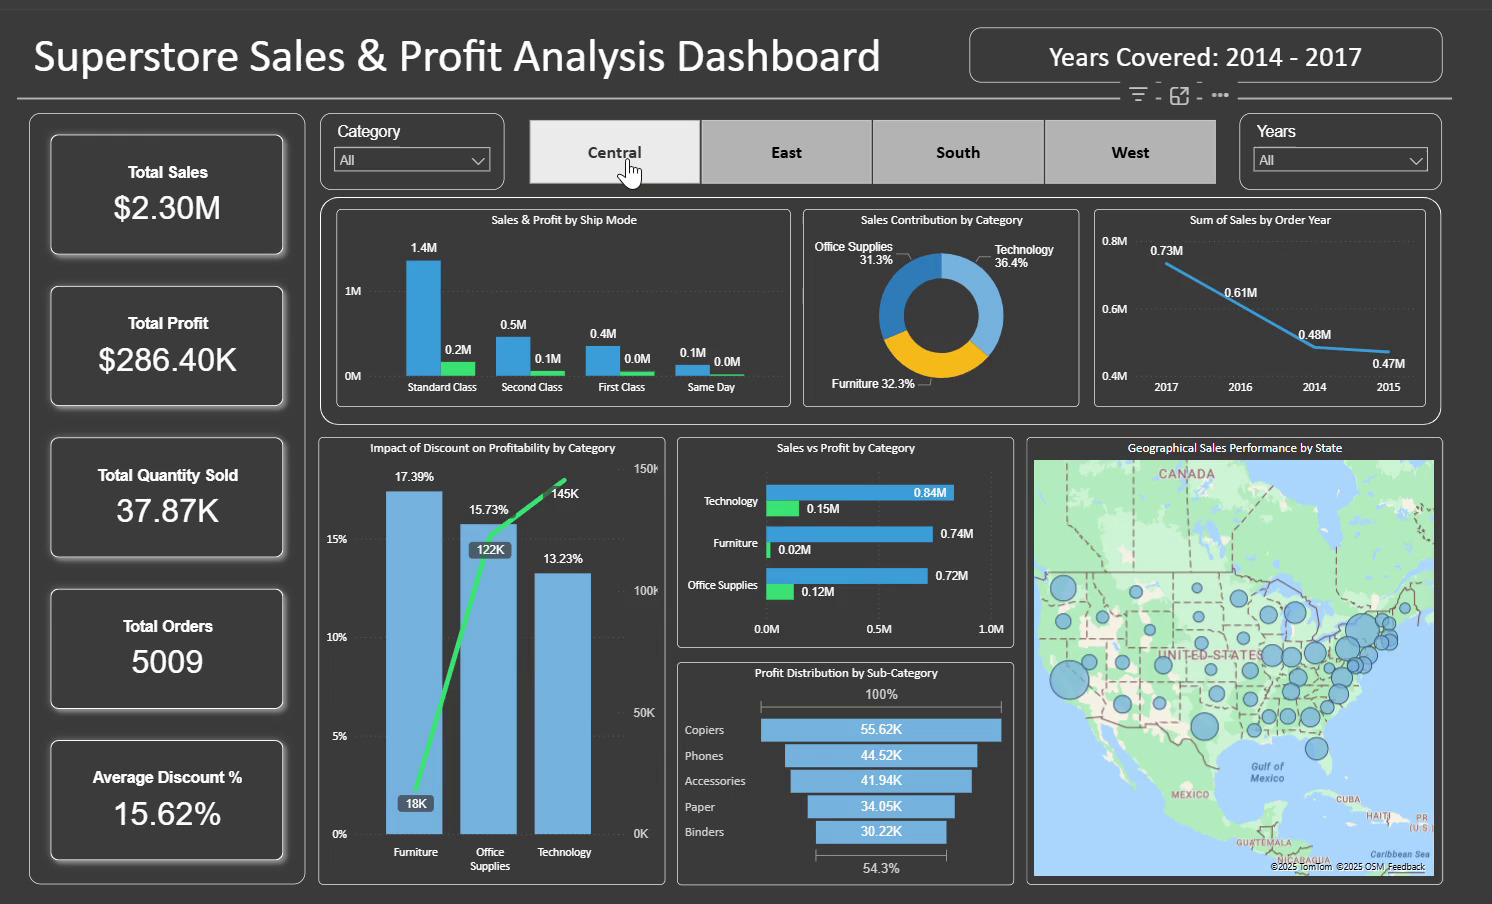

Layout of this report page (visuals, bound fields, positions):
{"tool":"powerbi","page":{"name":"Superatore Sales Dashoard","canvas":[1480,920],"ordinal":0},"visuals":[{"type":"shape","box":[312.6,191.7,1155.5,234.9],"z":0},{"type":"cardVisual","fields":{"Data":["Sample - Superstore.Total Sales","Sample - Superstore.Total Profit","Sample - Superstore.Total Quantity Sold","Sample - Superstore.Total Orders","Sample - Superstore.Average Discount %"]},"box":[12.1,105.4,285,794.5],"z":1000},{"type":"textbox","box":[12.1,10.4,941.3,70.8],"z":2000},{"type":"card","fields":{"Values":["Sample - Superstore.Years Covered"]},"box":[981,17.3,487.1,57],"z":3000},{"type":"slicer","fields":{"Values":["Sample - Superstore.Order Year"]},"box":[1259.1,105.4,209,79.5],"z":5000},{"type":"azureMap","title":"Geographical Sales Performance by State","fields":{"Category":["Sample - Superstore.State"],"Size":["Sum(Sample - Superstore.Sales)"]},"box":[1039.8,438.7,428.3,461.2],"z":6000},{"type":"lineChart","fields":{"Category":["Sample - Superstore.Order Year"],"Y":["Sum(Sample - Superstore.Sales)"]},"box":[1108.9,203.8,342,203.8],"z":7000},{"type":"clusteredBarChart","title":"Sales vs Profit by Category","fields":{"Category":["Sample - Superstore.Category"],"Y":["Sum(Sample - Superstore.Sales)","Sum(Sample - Superstore.Profit)"]},"box":[680.5,438.7,347.2,217.6],"z":8000},{"type":"donutChart","title":"Sales Contribution by Category","fields":{"Category":["Sample - Superstore.Category"],"Y":["Sum(Sample - Superstore.Sales)"]},"box":[810.1,203.8,285,203.8],"z":9000},{"type":"clusteredColumnChart","title":"Sales & Profit by Ship Mode","fields":{"Category":["Sample - Superstore.Ship Mode"],"Y":["Sum(Sample - Superstore.Sales)","Sum(Sample - Superstore.Profit)"]},"box":[329.9,203.8,468.1,203.8],"z":10000},{"type":"lineClusteredColumnComboChart","title":"Impact of Discount on Profitability by Category","fields":{"Category":["Sample - Superstore.Category"],"Y":["Sample - Superstore.Average Discount %"],"Y2":["Sum(Sample - Superstore.Profit)"]},"box":[310.9,438.7,357.5,461.2],"z":11000},{"type":"slicer","fields":{"Values":["Sample - Superstore.Category"]},"box":[312.6,105.4,190,79.5],"z":12000},{"type":"funnel","title":"Profit Distribution by Sub-Category","fields":{"Category":["Sample - Superstore.Sub-Category"],"Y":["Sum(Sample - Superstore.Profit)"]},"box":[680.5,670.2,347.2,229.7],"z":13000},{"type":"shape","box":[0,84.6,1478.5,10.4],"z":14000},{"type":"slicer","fields":{"Values":["Sample - Superstore.Region"]},"box":[502.6,105.4,756.5,79.5],"z":14001}]}

Visuals, with their boxes in screenshot pixels (x1, y1, x2, y2), scaled from the page's 1480x920 canvas onto the 1492x904 screenshot:
shape: 315:188:1480:419
cardVisual - Sample - Superstore.Total Sales x Sample - Superstore.Total Profit: 12:104:300:884
textbox: 12:10:961:80
card - Sample - Superstore.Years Covered: 989:17:1480:73
slicer - Sample - Superstore.Order Year: 1269:104:1480:182
"Geographical Sales Performance by State" azureMap: 1048:431:1480:884
lineChart - Sample - Superstore.Order Year x Sum(Sample - Superstore.Sales): 1118:200:1463:401
"Sales vs Profit by Category" clusteredBarChart: 686:431:1036:645
"Sales Contribution by Category" donutChart: 817:200:1104:401
"Sales & Profit by Ship Mode" clusteredColumnChart: 333:200:804:401
"Impact of Discount on Profitability by Category" lineClusteredColumnComboChart: 313:431:674:884
slicer - Sample - Superstore.Category: 315:104:507:182
"Profit Distribution by Sub-Category" funnel: 686:659:1036:884
shape: 0:83:1490:93
slicer - Sample - Superstore.Region: 507:104:1269:182
